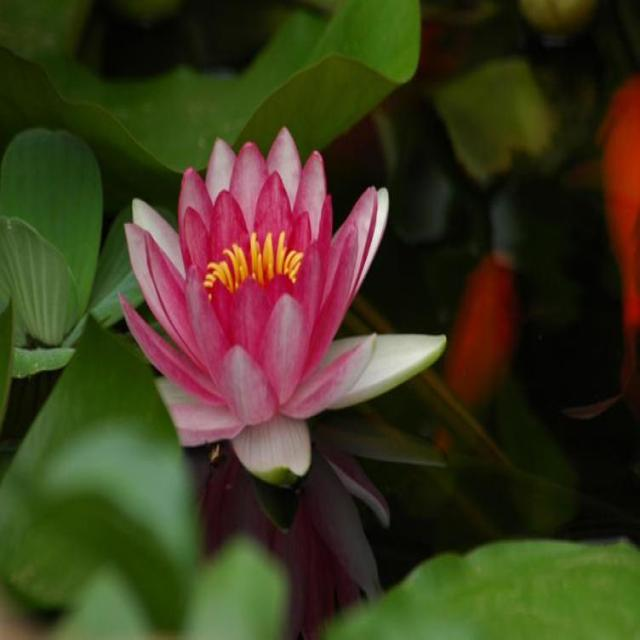water-lily: (100, 117, 436, 510)
